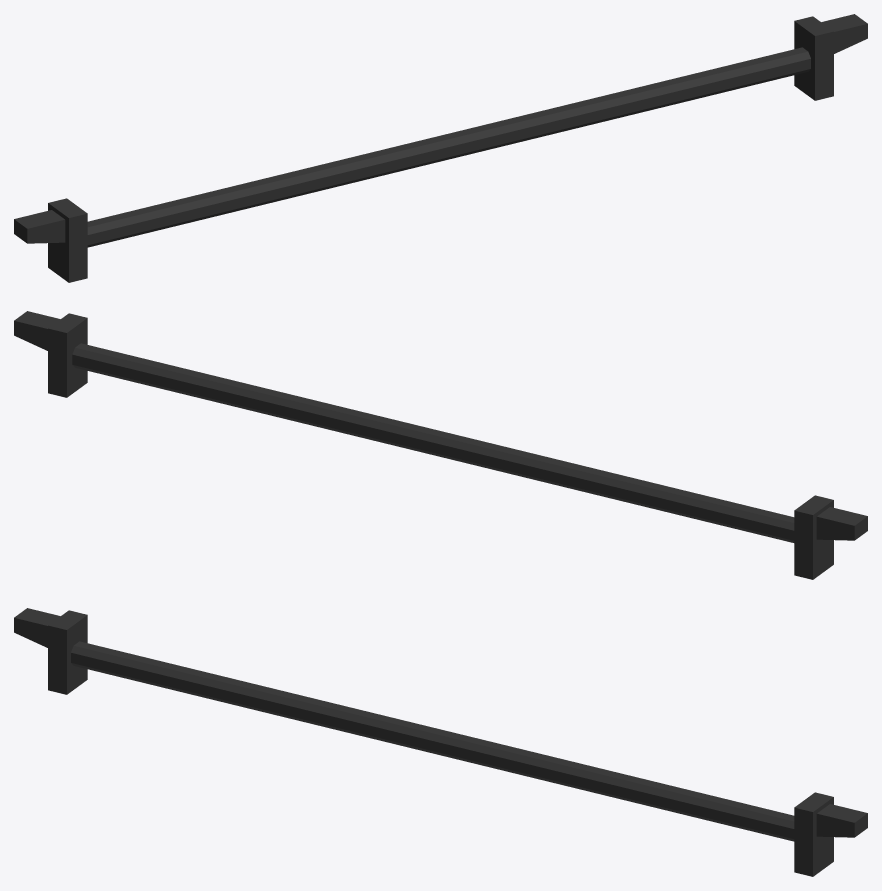
File: pullup-bar.glb
3 views of the same model, one above another, from view 1: azimuth 30°, elevation 25°; view 2: azimuth 150°, elevation 25°; view 3: azimuth 330°, elevation 25° (orthographic).
Parts seen in each view (by area): view 1: Pullup_Bar; view 2: Pullup_Bar; view 3: Pullup_Bar.
Boxes of the visible parts, x1,y1,x2,y2 form: Pullup_Bar: [14, 14, 867, 282]; Pullup_Bar: [14, 311, 867, 579]; Pullup_Bar: [14, 608, 867, 876].
Size of the model in its own units: 188 by 13.87 by 8.07.
Materials: 1 (1 with a texture image).
